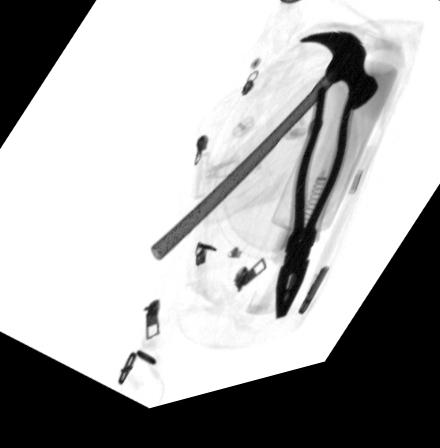Hammer: (151, 48, 380, 270)
Pliers: (274, 99, 362, 333)
